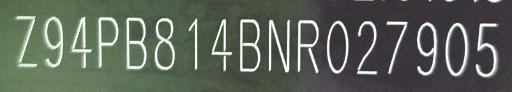letter: (146, 13, 184, 71), (322, 12, 354, 78), (262, 14, 296, 74), (410, 18, 444, 78), (350, 13, 382, 75), (380, 16, 412, 76), (442, 19, 474, 79), (473, 19, 503, 79), (294, 13, 322, 77), (40, 13, 70, 68), (92, 14, 122, 69), (120, 15, 148, 71), (236, 13, 262, 73), (68, 14, 96, 69), (207, 14, 233, 72), (11, 14, 37, 70), (184, 15, 204, 71)
